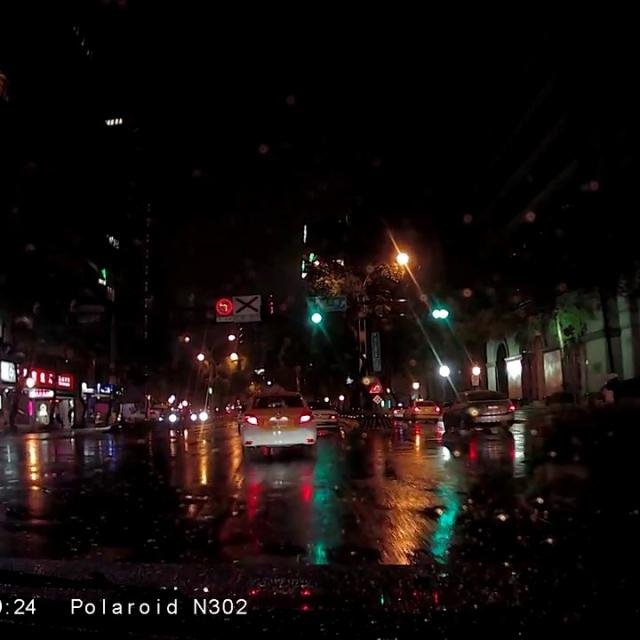Car: (236, 392, 317, 448), (439, 390, 517, 425), (297, 398, 339, 425), (404, 396, 440, 423), (387, 402, 408, 420)
